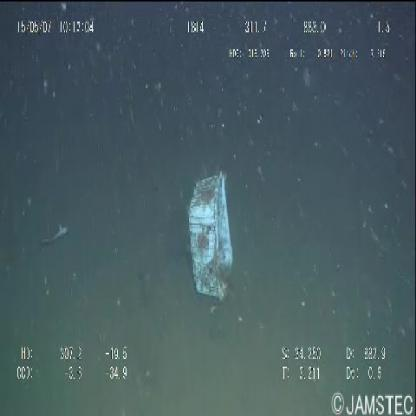Rác: (186, 170, 234, 304)
